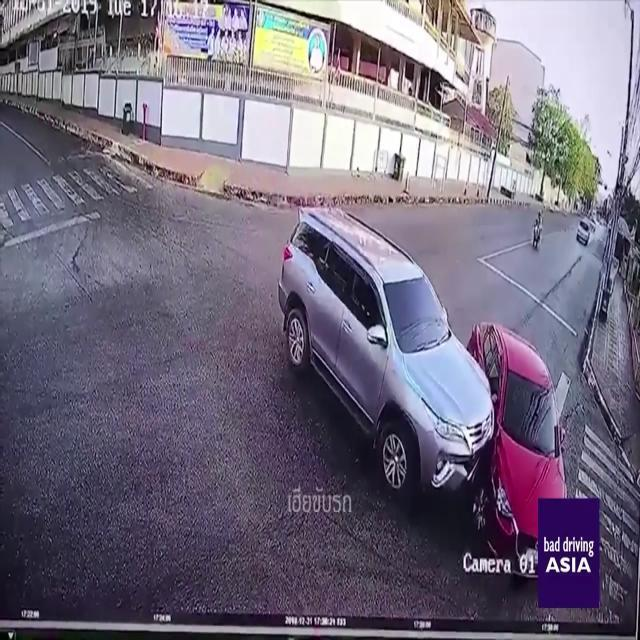accident: (276, 207, 568, 587)
